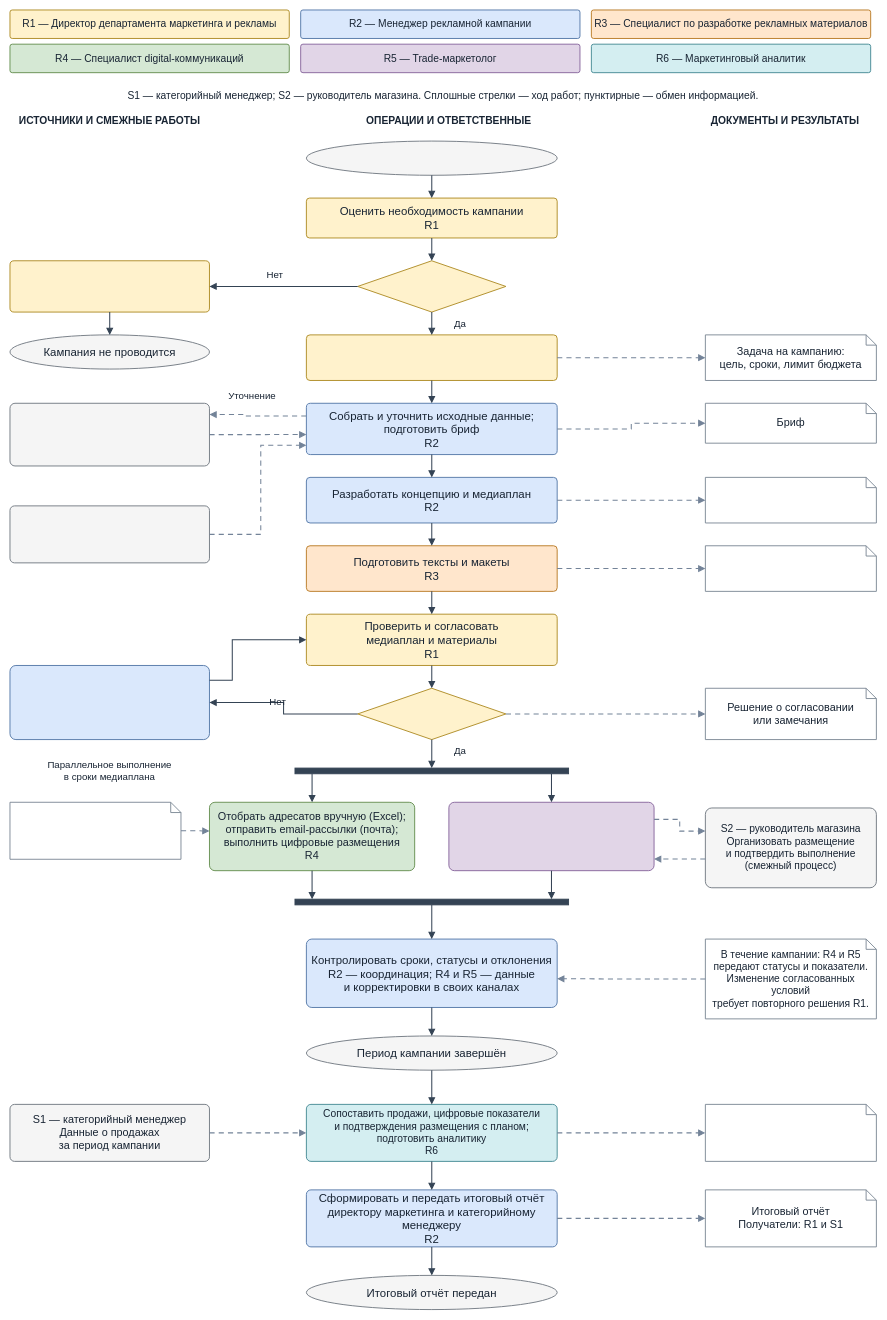
Image size: 887x1320. Some labels were removed from this diagram. The centre of each missing label's shape, as x and y in pixels:
"R4 и R5 Требования цифровых и розничных каналов" belongs at point 109,534.
"S1 — категорийный менеджер Товары, наличие, цены и утверждённые условия акции" belongs at point 109,434.
"Возникла потребность в кампании" belongs at point 431,157.
"Доработать медиаплан — R2; доработать материалы — R3 по замечаниям R1" belongs at point 109,702.
"Зафиксировать решение об отказе R1" belongs at point 109,286.
"Комплект рекламных материалов" belongs at point 791,568.
"Концепция и медиаплан" belongs at point 791,500.
"Передать магазинам материалы и инструкции; получить подтверждения размещения R5" belongs at point 551,836.
"Поставить задачу на кампанию R1" belongs at point 431,357.
"Проводить кампанию?" belongs at point 431,286.
"Результаты кампании: план / факт, выводы" belongs at point 791,1133.
"Согласовано?" belongs at point 431,714.
"Список клиентских контактов в Excel Ручной отбор адресатов" belongs at point 95,830.
